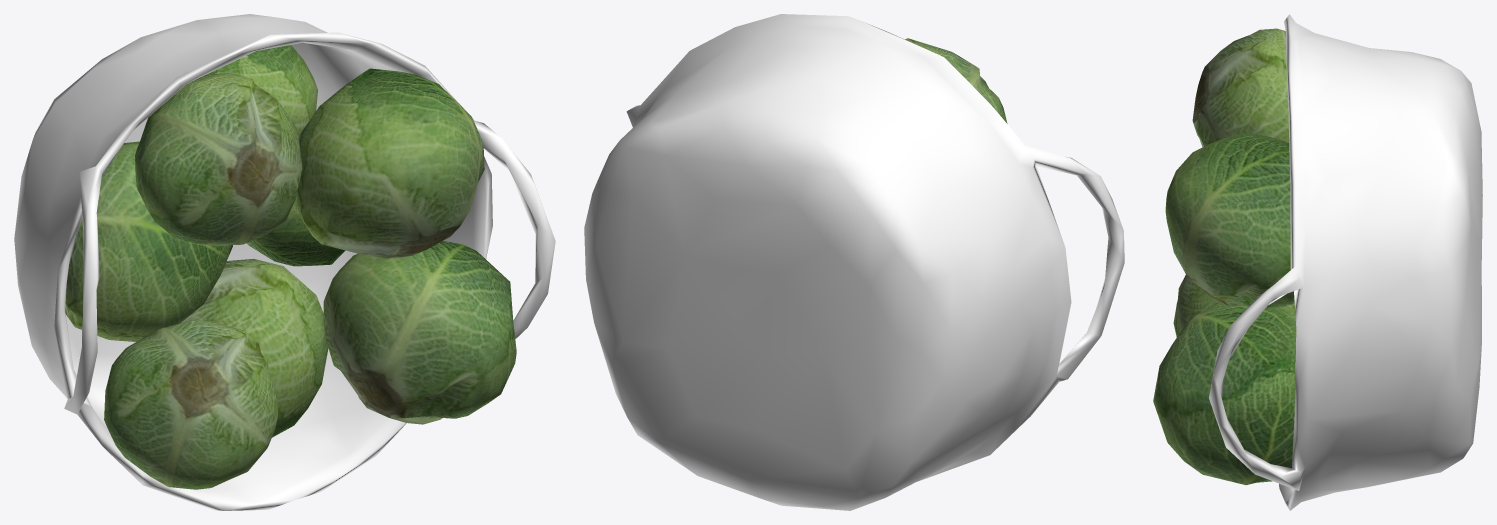
Rendered from hd_dec_UNI_001_Basket_Cabbage.glb.
The picture shows the model from 3 angles, left to right: view 1: azimuth 30°, elevation 25°; view 2: azimuth 150°, elevation 25°; view 3: azimuth 270°, elevation 25°; orthographic projection. The views are drawn at different scales.
Visible parts, largest first — view 1: set_0_group_0, set_0_group_1; view 2: set_0_group_1, set_0_group_0; view 3: set_0_group_1, set_0_group_0.
Part boxes in pixels (x1,y1,x2,y2): set_0_group_0: [65, 45, 516, 489]; set_0_group_1: [14, 14, 555, 510]; set_0_group_1: [584, 14, 1124, 510]; set_0_group_0: [905, 38, 1007, 123]; set_0_group_1: [1199, 14, 1482, 510]; set_0_group_0: [1153, 28, 1296, 485].
Bounding box in the file's own units: 0.2978 × 0.281 × 0.1885.
2 materials, 1 textured.
